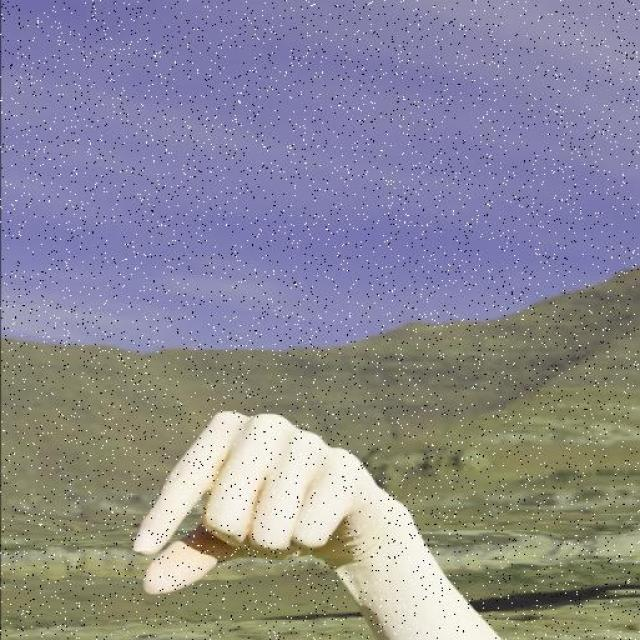Q: (128, 407, 412, 597)
